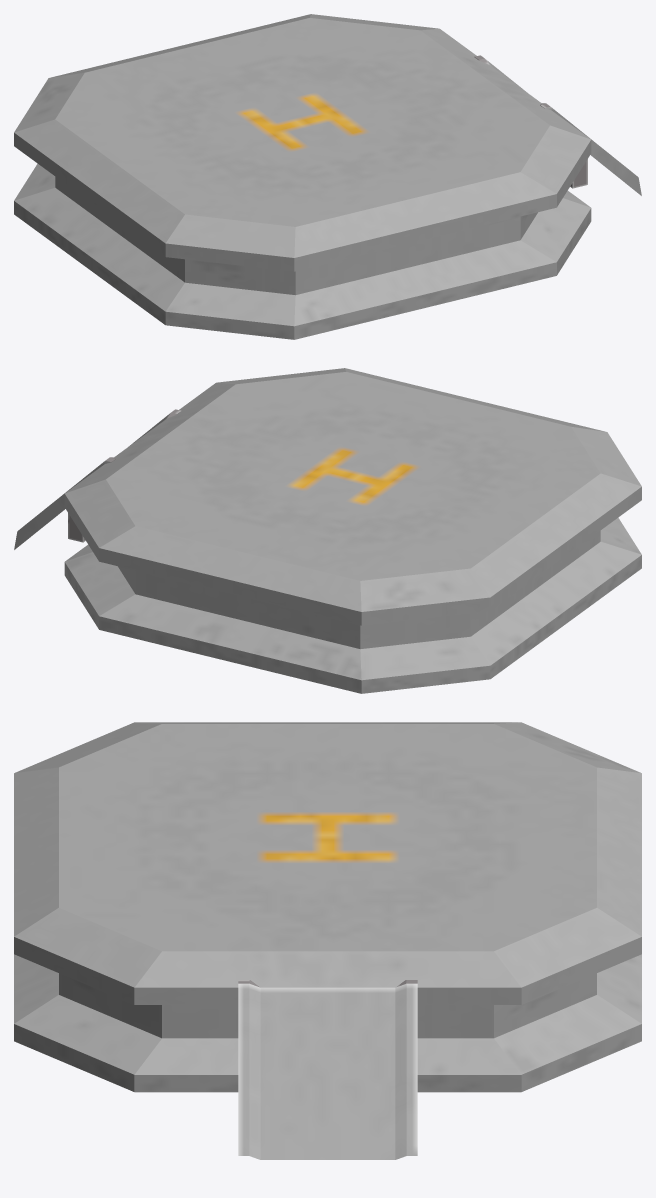
The model's file is VPP.fbx.
3 renders of one model, top to bottom at view 1: azimuth 30°, elevation 25°; view 2: azimuth 150°, elevation 25°; view 3: azimuth 270°, elevation 25°, orthographic. The views are drawn at different scales.
Parts seen in each view (by area): view 1: cylinder, plane; view 2: cylinder, plane; view 3: cylinder, plane.
Part boxes in pixels (bbox=[...]): cylinder: bbox=[14, 14, 591, 339]; plane: bbox=[474, 55, 641, 195]; cylinder: bbox=[64, 368, 641, 693]; plane: bbox=[14, 409, 181, 549]; cylinder: bbox=[14, 722, 641, 1092]; plane: bbox=[238, 980, 417, 1159].
Bounding box in the file's own units: 106 × 24.06 × 87.5.
Materials: 2 (2 with a texture image).
